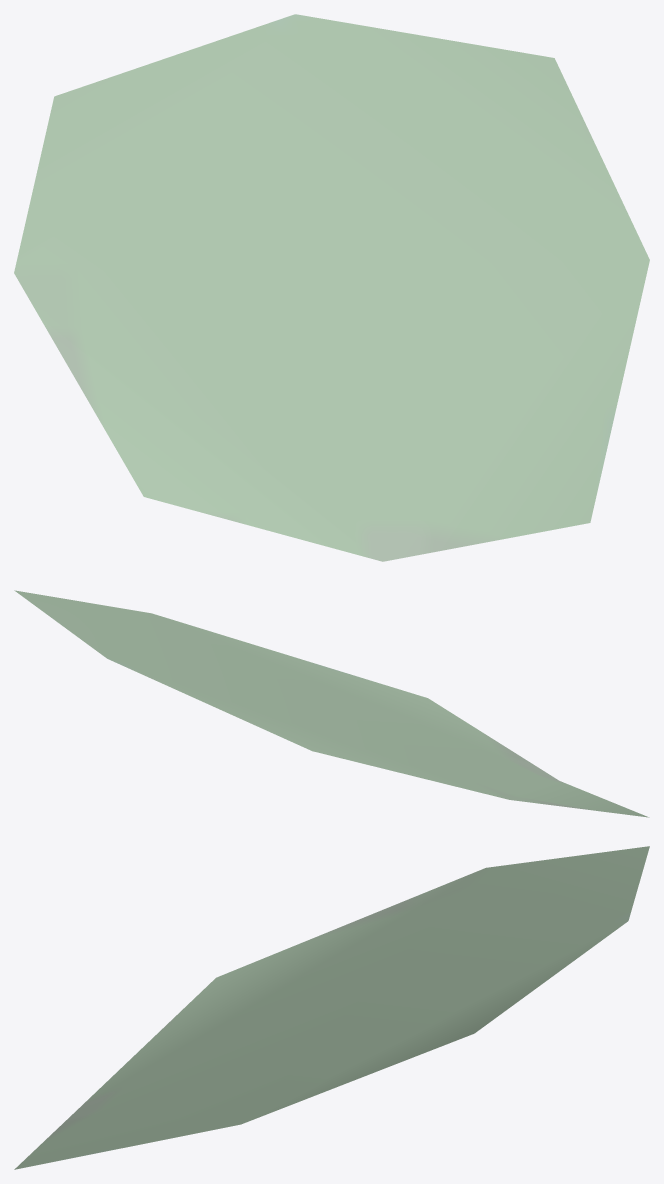
The model's file is TROLLHOLE02_HOLECAP166.fbx.
3 views of the same model, one above another, from view 1: azimuth 30°, elevation 25°; view 2: azimuth 150°, elevation 25°; view 3: azimuth 270°, elevation 25° (orthographic). The views are drawn at different scales.
Visible parts, largest first — view 1: TROLLHOLE02_HOLECAP166; view 2: TROLLHOLE02_HOLECAP166; view 3: TROLLHOLE02_HOLECAP166.
Boxes of the visible parts, bbox=[...] form: TROLLHOLE02_HOLECAP166: bbox=[14, 14, 649, 561]; TROLLHOLE02_HOLECAP166: bbox=[14, 590, 649, 817]; TROLLHOLE02_HOLECAP166: bbox=[14, 846, 649, 1169].
Bounding box in the file's own units: 24371 × 12428 × 25562.
1 material, 1 textured.
